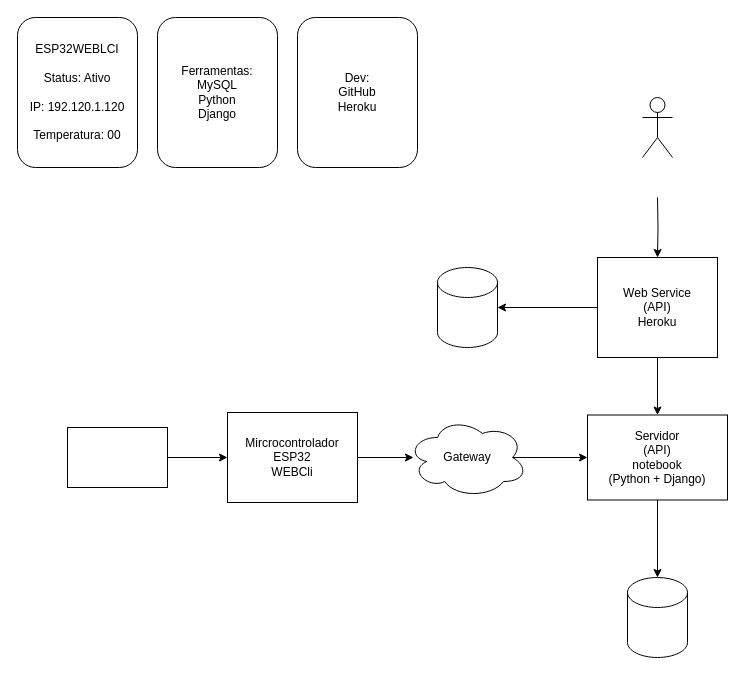
The diagram is 745 pixels wide and 675 high, and some of its shapes have lost their labels. Here are the shapes that lost their labels. From the top down, the centre of each, then its label:
(657,127): Actor Interface
(467,307): DataBase Postgres
(117,457): Sensor de Temperatura
(657,617): DataBase MySQL
